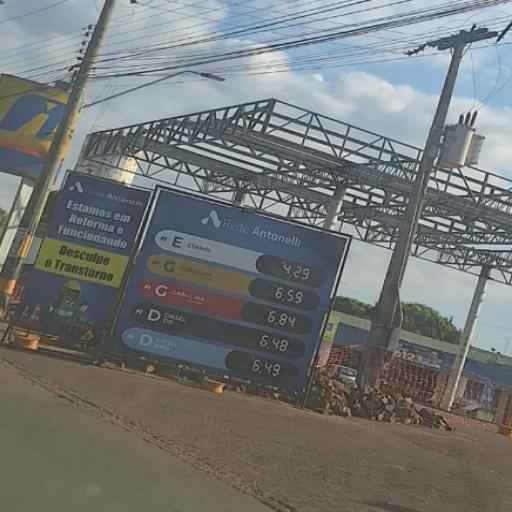ETANOL: (167, 233, 215, 262)
GASOLINA AD: (148, 281, 211, 312)
GASOLINA C: (159, 257, 215, 287)
S10: (143, 307, 193, 335)
S500: (136, 331, 183, 358)
placa: (108, 190, 349, 393)
preco: (268, 257, 319, 283), (271, 281, 309, 309), (267, 306, 304, 333), (250, 354, 284, 380), (258, 330, 292, 355)
